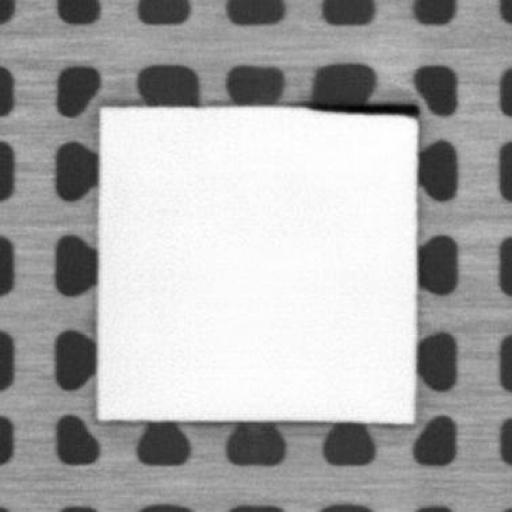DIE_BROKEN: (308, 97, 418, 120)
